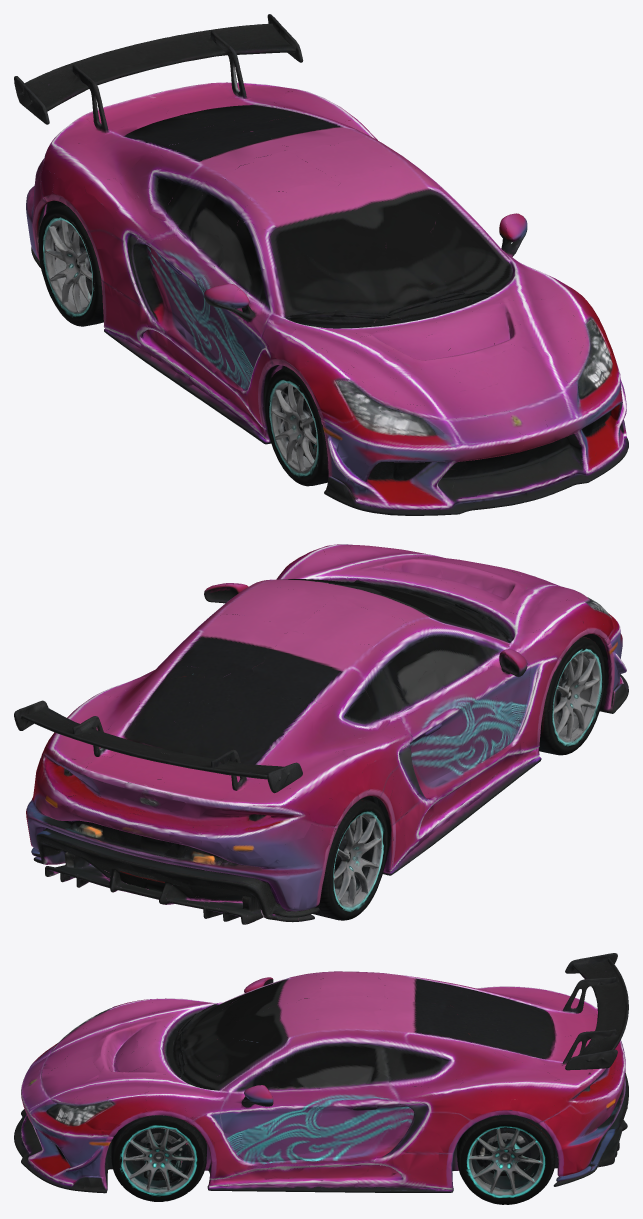
Rendered from zenith-v12.glb.
3 renders of one model, top to bottom at view 1: azimuth 30°, elevation 25°; view 2: azimuth 150°, elevation 25°; view 3: azimuth 270°, elevation 25°, orthographic. The views are drawn at different scales.
Parts seen in each view (by area): view 1: zenith-v12; view 2: zenith-v12; view 3: zenith-v12.
Part boxes in pixels (left/top/right/bottom): zenith-v12: left=14, top=14, right=628, bottom=515; zenith-v12: left=14, top=544, right=628, bottom=924; zenith-v12: left=14, top=953, right=628, bottom=1204.
Bounding box in the file's own units: 2.2 × 1.3 × 4.7.
Materials: 1 (1 with a texture image).
